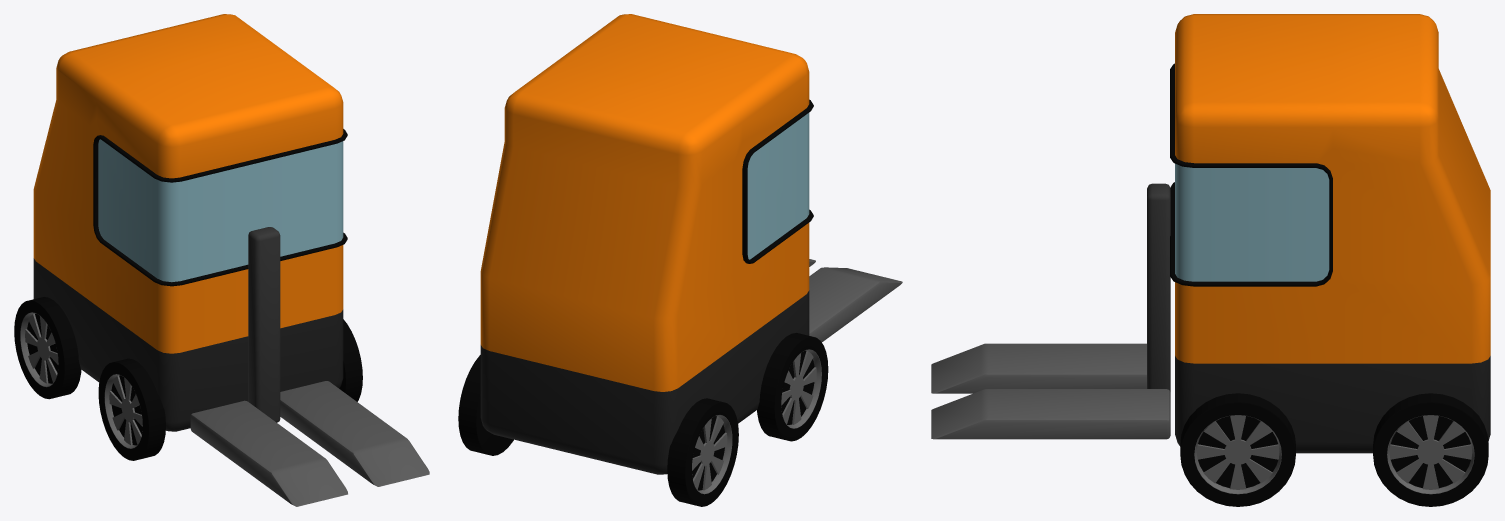
The model's file is ForkLift.fbx.
The picture shows the model from 3 angles, left to right: view 1: azimuth 30°, elevation 25°; view 2: azimuth 150°, elevation 25°; view 3: azimuth 270°, elevation 25°; orthographic projection. The views are drawn at different scales.
Visible parts, largest first — view 1: ForkLift, Fork, Front Right, Rear Right.001, Front Left.001; view 2: ForkLift, Rear Right.001, Front Right, Fork, Rear Left.001; view 3: ForkLift, Fork, Front Left.001, Rear Left.001.
Boxes of the visible parts, x1,y1,x2,y2 form: ForkLift: (33,14,347,431); Fork: (190,381,429,506); Front Right: (98,358,165,460); Rear Right.001: (14,297,81,399); Front Left.001: (339,319,362,401); ForkLift: (480,14,813,474); Rear Right.001: (667,398,738,506); Front Right: (757,333,828,441); Fork: (809,259,902,342); Rear Left.001: (458,355,513,455); ForkLift: (1147,14,1490,453); Fork: (931,343,1170,439); Front Left.001: (1180,393,1295,506); Rear Left.001: (1373,393,1488,506).
Bounding box in the file's own units: 53.72 × 81.37 × 106.
